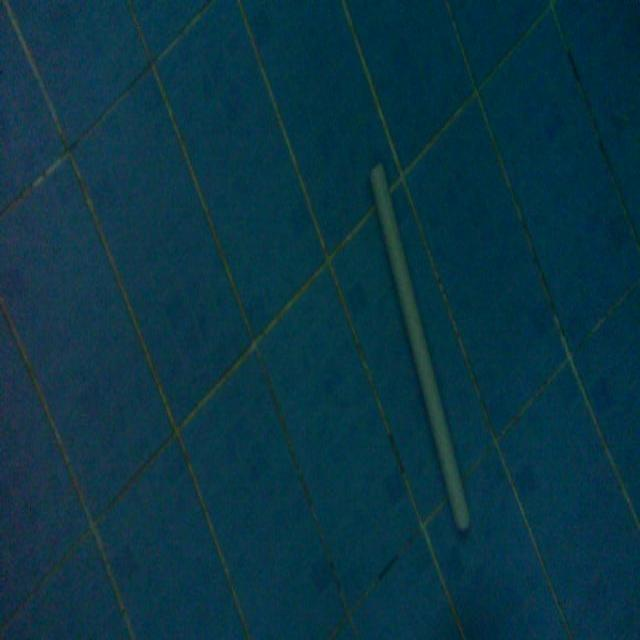Cube: (367, 155, 472, 533)
